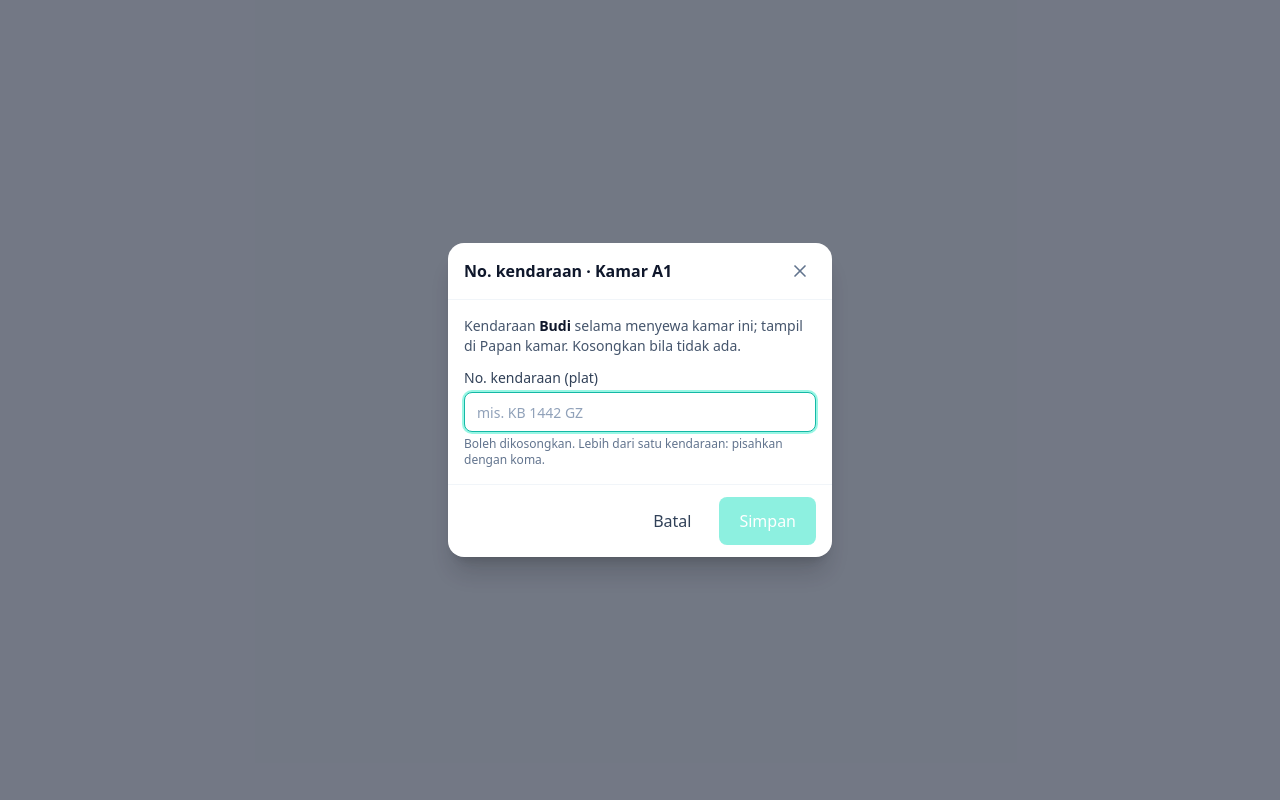
Test: VehiclePlateModal › a refusal is shown and the sheet stays open
This screenshot has width=1280, height=800.
Type "KB 1442 GZ" into the field labelled "No. kendaraan (plat)" at (640, 412), box [464,392,816,432]
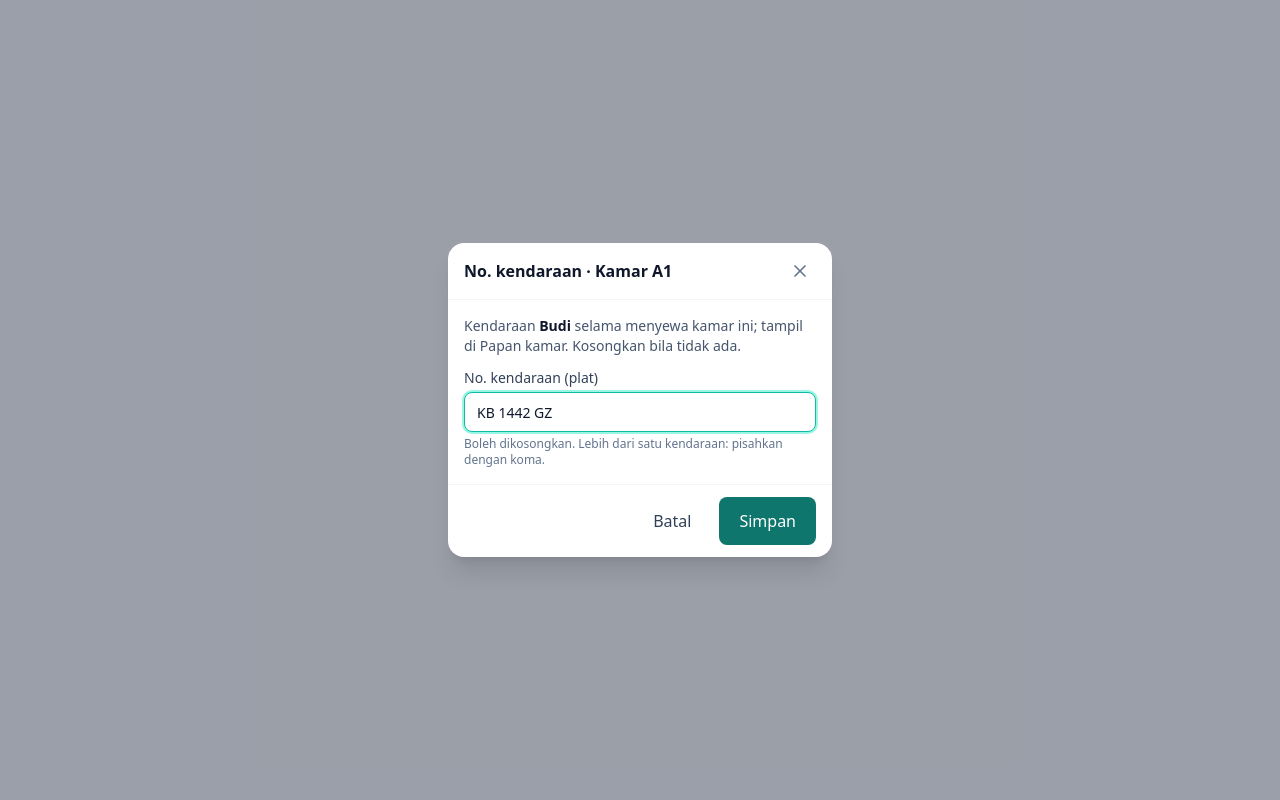
Click the 2nd button "Simpan" at (768, 521), box [719,497,816,545]
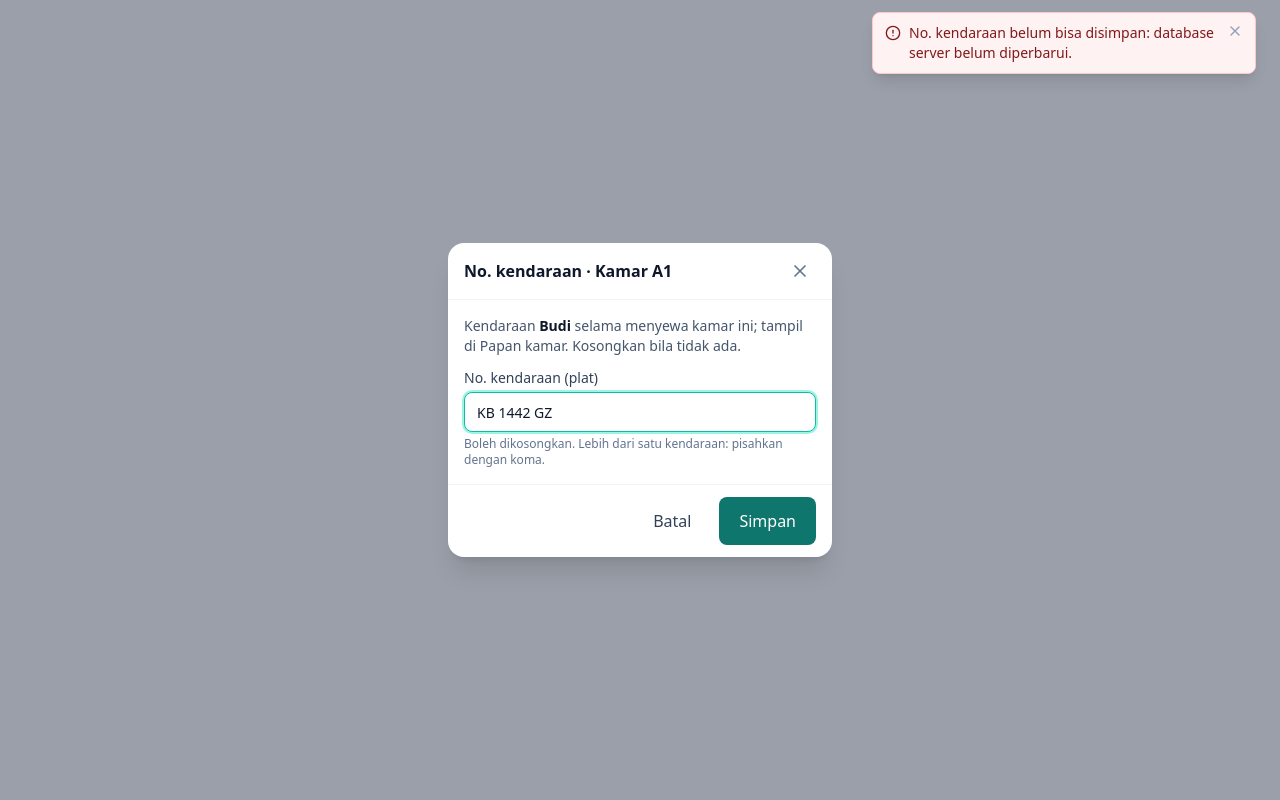
Result: the text "belum bisa disimpan" is shown at [909,23,1214,62]
